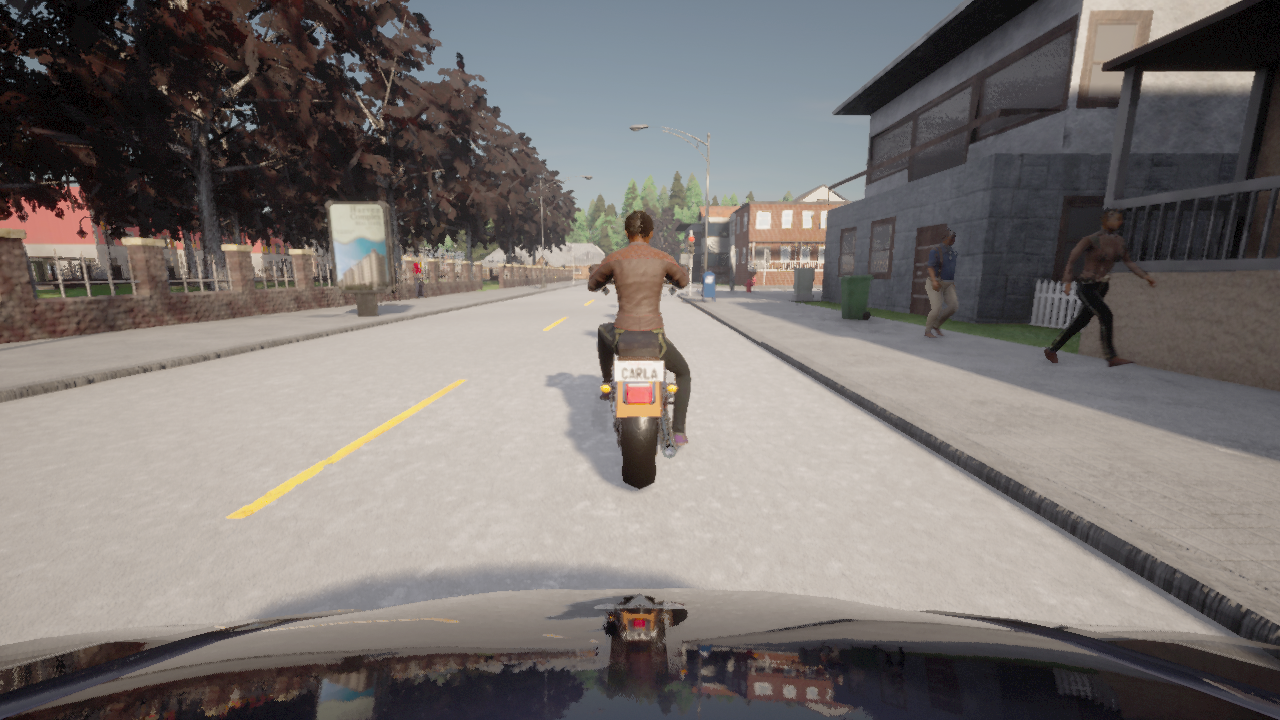cyclist: (0, 588, 1279, 719), (588, 264, 689, 488)
pedestrian: (1043, 207, 1157, 368), (923, 229, 958, 338), (411, 257, 427, 299), (552, 274, 556, 286)
